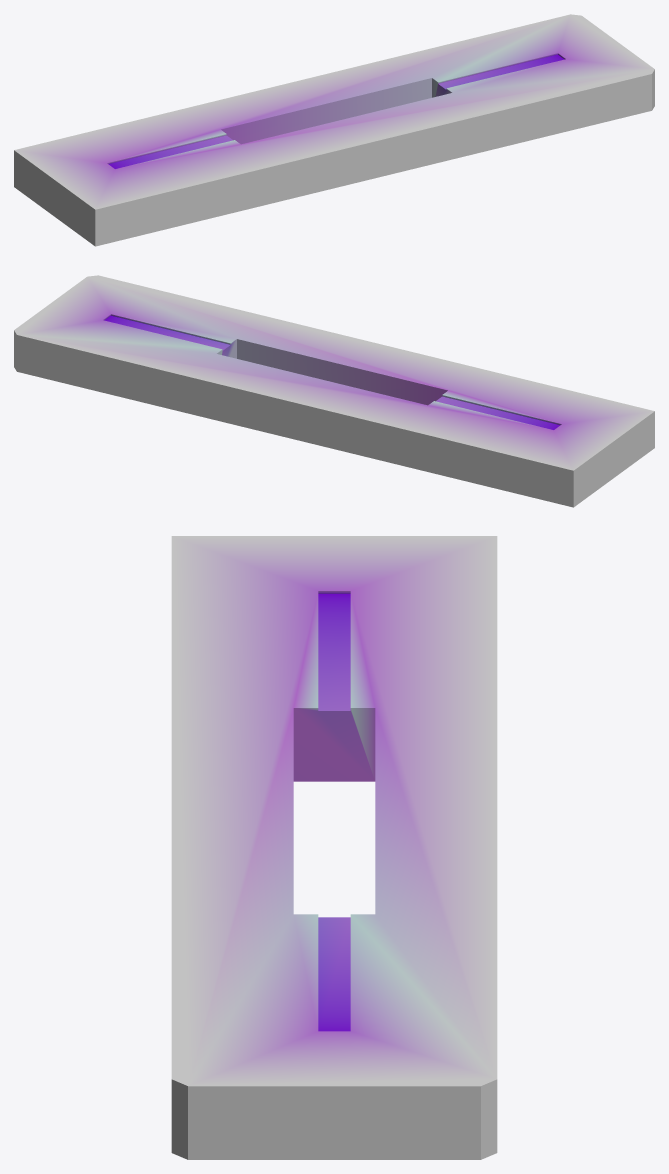
The model's file is zero-to-cad-30fb105a-e89c-c553-92fd-98a946b8d19b.glb.
The picture shows the model from 3 angles, top to bottom: view 1: azimuth 30°, elevation 25°; view 2: azimuth 150°, elevation 25°; view 3: azimuth 270°, elevation 25°; orthographic projection. The views are drawn at different scales.
Parts seen in each view (by area): view 1: Clip; view 2: Clip; view 3: Clip.
Part boxes in pixels (x1,y1,x2,y2): Clip: (14, 14, 654, 246); Clip: (14, 275, 654, 507); Clip: (171, 536, 497, 1159).
Bounding box in the file's own units: 0.08 × 0.005 × 0.02.
